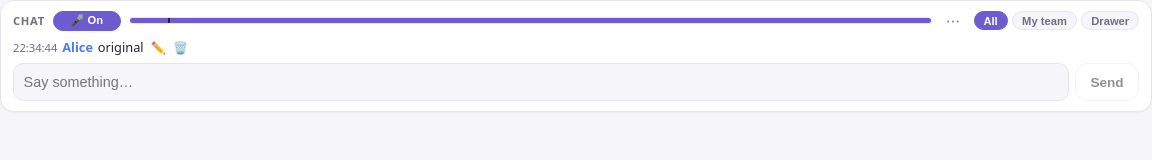
Test: cancelling an edit sends nothing and restores the row
The width and height of the screenshot is (1152, 160).
Step 1. Click the button named "Edit your message" → (158,48), box [148,42,168,54]
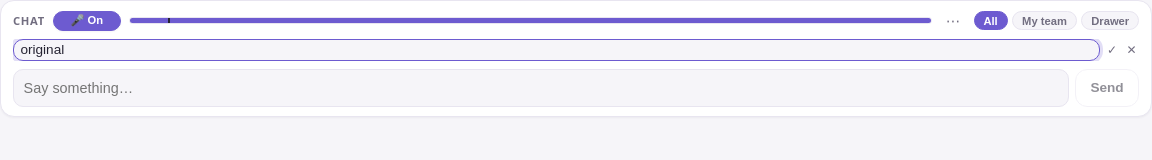
Step 2. Click the button named "Cancel edit" → (1132,50), box [1124,44,1139,56]
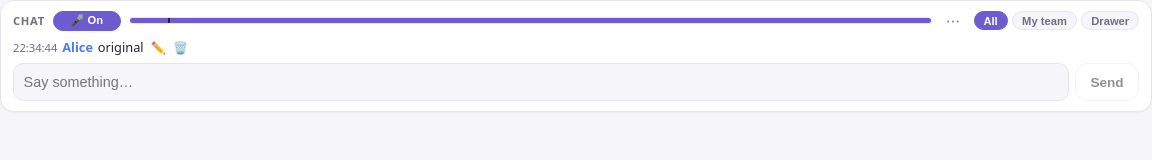
expect the text "original" is shown: met, box [98,39,144,55]
